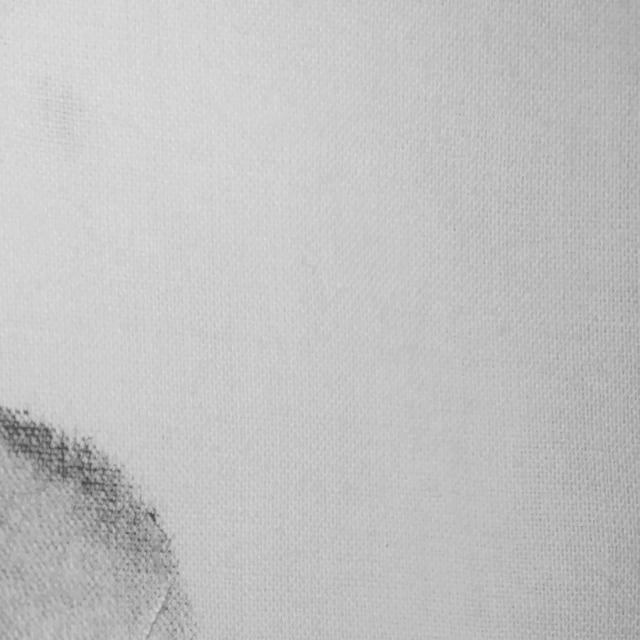Stain: (0, 407, 197, 640)
